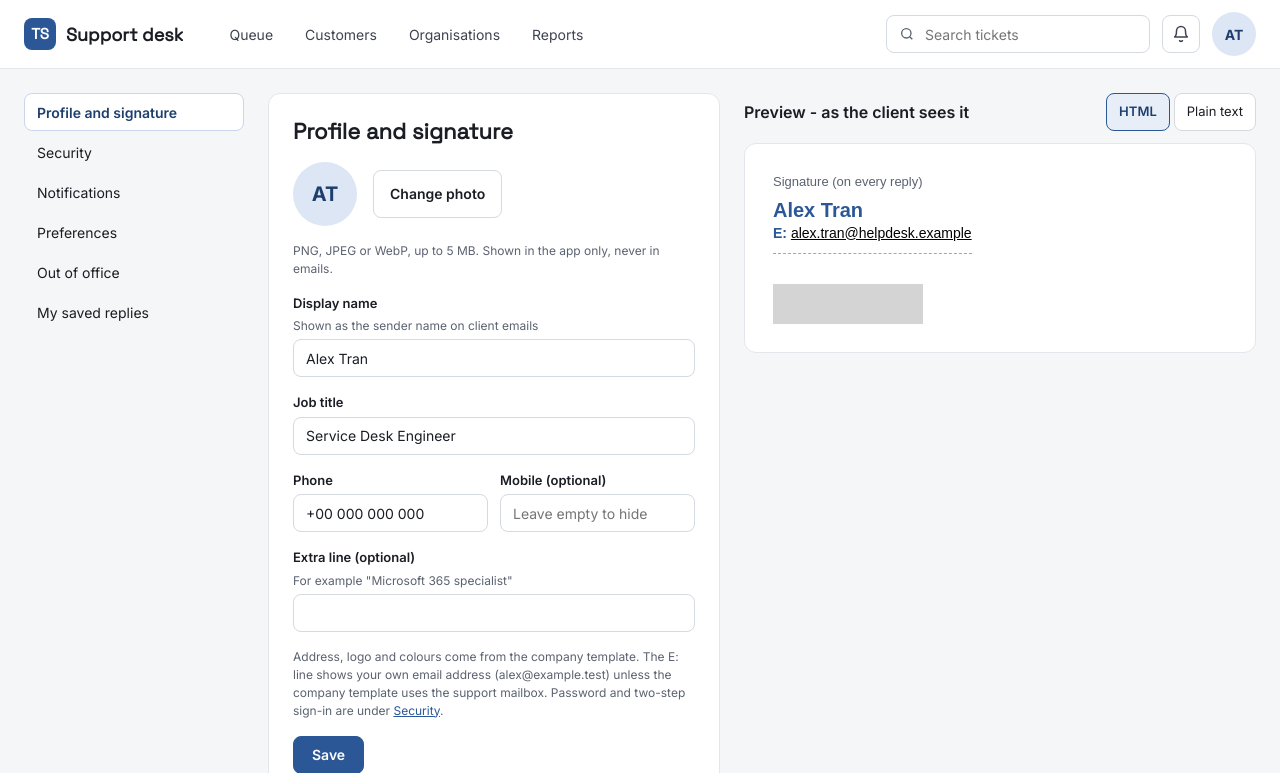
Test: My settings - Profile and signature › shows the server's validation message for the preview
Replace the text in the field labelled "Phone" with "call me": (390, 513) top-left (293, 494), bottom-right (488, 532)
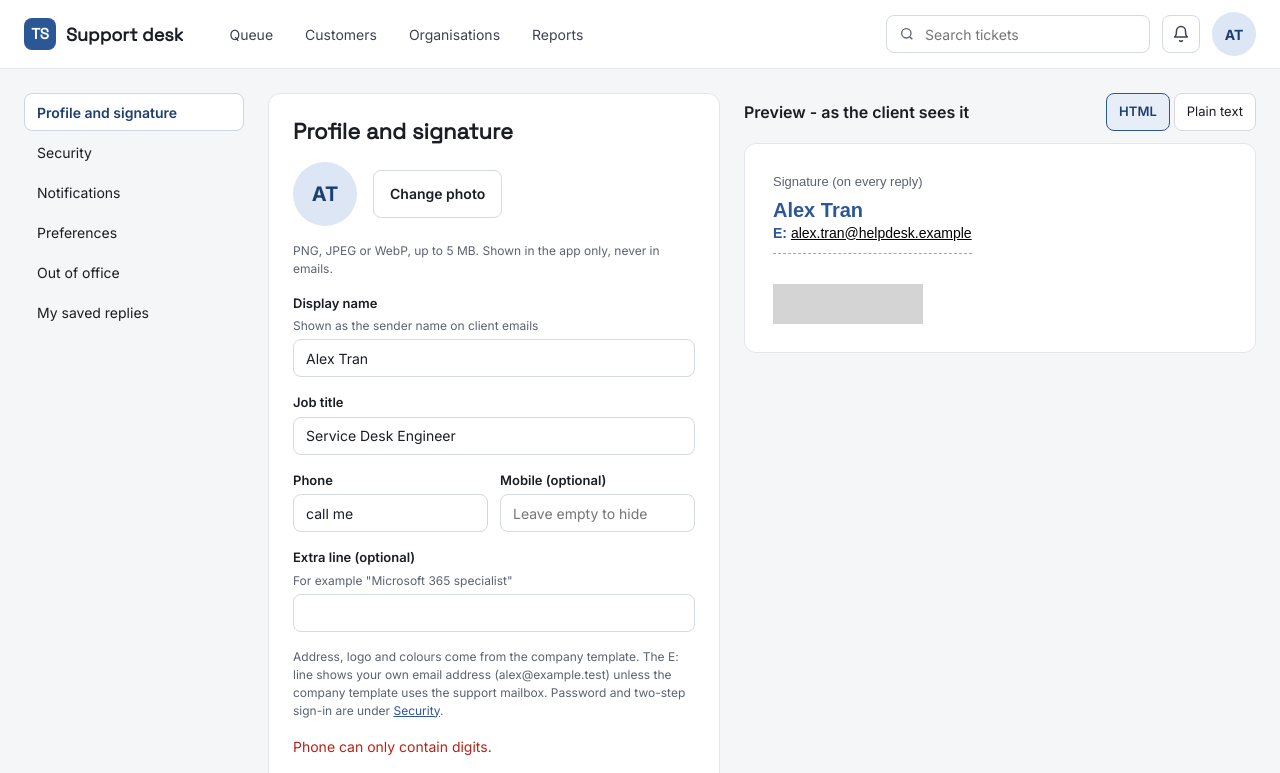
Now the message reads "Phone can only contain digits.", box top-left (293, 738), bottom-right (492, 754)
